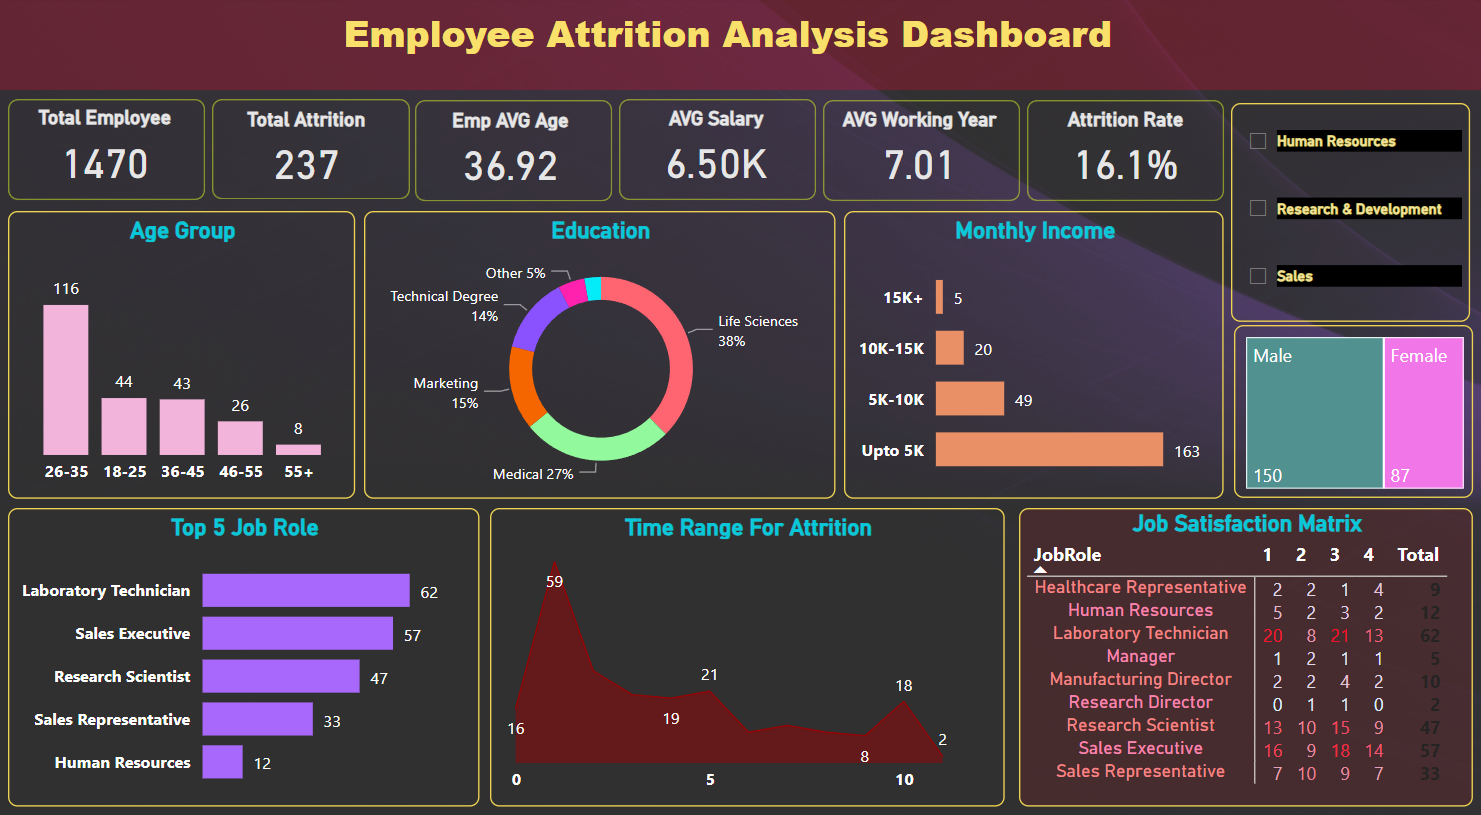

The page's visual inventory and layout, read from the dashboard file:
{"tool":"powerbi","page":{"name":"Page 1","canvas":[1100,607],"ordinal":0},"visuals":[{"type":"shape","box":[762.2,76.3,145.9,74.8],"z":0},{"type":"shape","box":[611.4,76.3,145.9,74.8],"z":1000},{"type":"shape","box":[309.7,76.3,146,75],"z":2000},{"type":"shape","box":[460.6,75.6,145.9,74.8],"z":3000},{"type":"shape","box":[159,75.3,146.6,74.3],"z":4000},{"type":"card","title":"Total Attrition","fields":{"Values":["Sum(HR-Employee-Aitration.AttritionCount)"]},"box":[164.2,82.1,129.2,63.5],"z":5000},{"type":"shape","box":[8.1,75.6,145.9,74.8],"z":6000},{"type":"card","title":"Total Employee","fields":{"Values":["CountNonNull(HR-Employee-Aitration.EmpID)"]},"box":[13.6,80.6,133,65],"z":7000},{"type":"card","title":"Attrition Rate","fields":{"Values":["HR-Employee-Aitration.AttritionRate"]},"box":[772.6,82.2,125.2,63.7],"z":8000},{"type":"card","title":"Emp AVG Age","fields":{"Values":["Avg(HR-Employee-Aitration.Age)"]},"box":[314.1,83.2,132.4,63.5],"z":9000},{"type":"card","title":"AVG Salary","fields":{"Values":["Avg(HR-Employee-Aitration.MonthlyIncome)"]},"box":[468,81.6,129.1,64.1],"z":10000},{"type":"card","title":"AVG Working Year","fields":{"Values":["Avg(HR-Employee-Aitration.YearsAtCompany)"]},"box":[620.4,82.5,125.2,64.1],"z":11000},{"type":"donutChart","title":"Education","fields":{"Category":["HR-Employee-Aitration.EducationField"],"Y":["Sum(HR-Employee-Aitration.AttritionCount)"]},"box":[271.9,158.5,348.9,212.6],"z":12000},{"type":"columnChart","title":"Age Group","fields":{"Category":["HR-Employee-Aitration.AgeGroup"],"Y":["Sum(HR-Employee-Aitration.AttritionCount)"]},"box":[8.1,158.5,257,212.6],"z":13000},{"type":"pivotTable","title":"Job Satisfaction Matrix","fields":{"Rows":["HR-Employee-Aitration.JobRole"],"Columns":["HR-Employee-Aitration.JobSatisfaction"],"Values":["Sum(HR-Employee-Aitration.AttritionCount)"]},"box":[756.3,378.5,336.3,220.7],"z":14000},{"type":"barChart","title":"Monthly Income","fields":{"Category":["HR-Employee-Aitration.SalarySlab"],"Y":["Sum(HR-Employee-Aitration.AttritionCount)"]},"box":[626.7,158.5,281.5,212.6],"z":15000},{"type":"barChart","title":"Top 5 Job Role","fields":{"Y":["Sum(HR-Employee-Aitration.AttritionCount)"],"Category":["HR-Employee-Aitration.JobRole"]},"box":[8.1,378.5,348.9,220.7],"z":16000},{"type":"areaChart","title":"Time Range For Attrition","fields":{"Category":["HR-Employee-Aitration.YearsAtCompany"],"Y":["Sum(HR-Employee-Aitration.AttritionCount)"]},"box":[365.2,378.5,380.7,220.7],"z":17000},{"type":"shape","box":[0,0,1300.7,68.9],"z":18000},{"type":"treemap","title":"Monthly Income","fields":{"Group":["HR-Employee-Aitration.Gender"],"Values":["Sum(HR-Employee-Aitration.AttritionCount)"]},"box":[915.6,243,177,128.1],"z":19000},{"type":"slicer","fields":{"Values":["HR-Employee-Aitration.Department"]},"box":[913.4,78.5,177,162.2],"z":20000},{"type":"textbox","box":[174.1,3,734.1,56.3],"z":21000}]}

Visuals, with their boxes in screenshot pixels (x1, y1, x2, y2), scaled from the page's 1100x607 canvas onto the 1481x815 screenshot:
shape: left=1026, top=102, right=1223, bottom=203
shape: left=823, top=102, right=1020, bottom=203
shape: left=417, top=102, right=614, bottom=203
shape: left=620, top=102, right=817, bottom=202
shape: left=214, top=101, right=411, bottom=201
"Total Attrition" card: left=221, top=110, right=395, bottom=195
shape: left=11, top=102, right=207, bottom=202
"Total Employee" card: left=18, top=108, right=197, bottom=195
"Attrition Rate" card: left=1040, top=110, right=1209, bottom=196
"Emp AVG Age" card: left=423, top=112, right=601, bottom=197
"AVG Salary" card: left=630, top=110, right=804, bottom=196
"AVG Working Year" card: left=835, top=111, right=1004, bottom=197
"Education" donutChart: left=366, top=213, right=836, bottom=498
"Age Group" columnChart: left=11, top=213, right=357, bottom=498
"Job Satisfaction Matrix" pivotTable: left=1018, top=508, right=1471, bottom=805
"Monthly Income" barChart: left=844, top=213, right=1223, bottom=498
"Top 5 Job Role" barChart: left=11, top=508, right=481, bottom=805
"Time Range For Attrition" areaChart: left=492, top=508, right=1004, bottom=805
shape: left=0, top=0, right=1480, bottom=93
"Monthly Income" treemap: left=1233, top=326, right=1471, bottom=498
slicer - HR-Employee-Aitration.Department: left=1230, top=105, right=1468, bottom=323
textbox: left=234, top=4, right=1223, bottom=80
